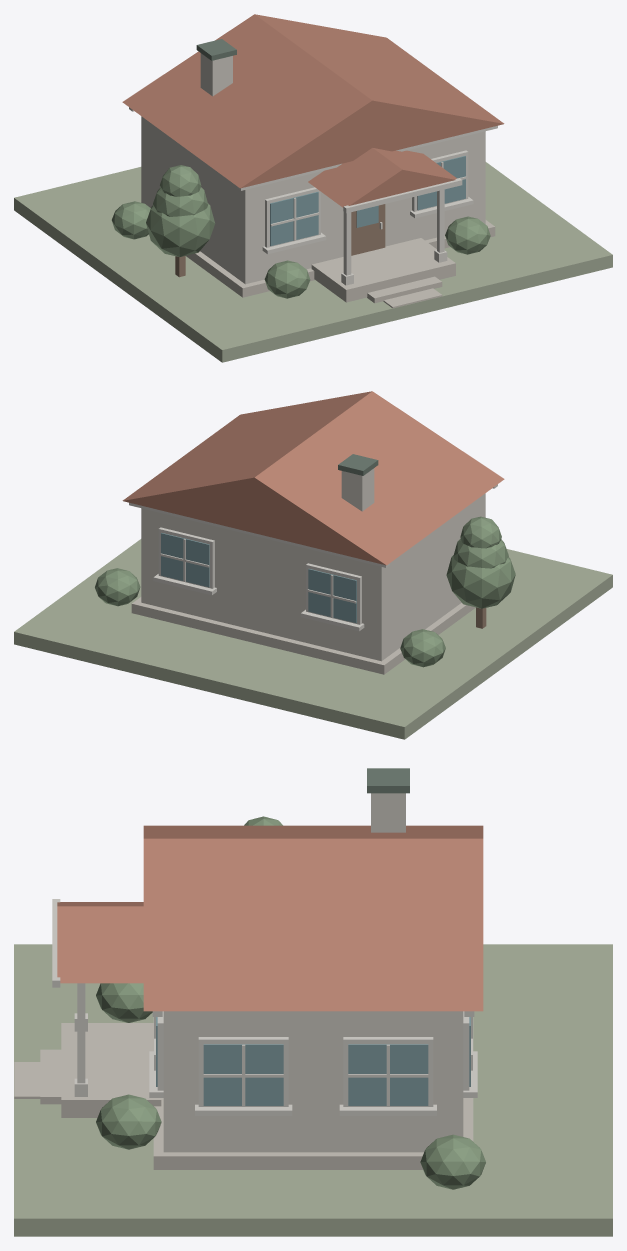
The model's file is Simple House.glb.
3 views of the same model, one above another, from view 1: azimuth 30°, elevation 25°; view 2: azimuth 150°, elevation 25°; view 3: azimuth 270°, elevation 25° (orthographic). The views are drawn at different scales.
Parts seen in each view (by area): view 1: Main terracotta roof, Garden base, Cream walls, Porch roof, Porch platform, Tree foliage 0, Front window -2.45 glass, Foundation, Garden shrub 0, Garden shrub 1, Front door, Garden shrub 2 (+13 smaller); view 2: Garden base, Main terracotta roof, Cream walls, Foundation, Tree foliage 0, Back window 2.45 glass, Back window -2.45 glass, Garden shrub 3, Garden shrub 2, Chimney, Tree foliage 1, Tree foliage 2 (+4 smaller); view 3: Garden base, Main terracotta roof, Cream walls, Porch roof, Porch platform, Foundation, East window -1.5 glass, East window 1.4 glass, Garden shrub 3, Garden shrub 1, Garden shrub 0, East window -1.5 surround (+8 smaller).
Boxes of the visible parts, <box> form: Main terracotta roof: <box>122,14,504,188</box>; Garden base: <box>14,162,612,362</box>; Cream walls: <box>141,116,485,284</box>; Porch roof: <box>308,148,456,207</box>; Porch platform: <box>311,238,455,302</box>; Tree foliage 0: <box>146,203,215,256</box>; Front window -2.45 glass: <box>270,192,318,246</box>; Foundation: <box>186,220,495,297</box>; Garden shrub 0: <box>264,260,310,298</box>; Garden shrub 1: <box>445,216,490,254</box>; Front door: <box>351,204,385,255</box>; Garden shrub 2: <box>111,201,150,239</box>; Garden base: <box>14,539,612,739</box>; Main terracotta roof: <box>122,391,504,565</box>; Cream walls: <box>141,493,485,661</box>; Foundation: <box>131,597,475,674</box>; Tree foliage 0: <box>446,555,515,608</box>; Back window 2.45 glass: <box>161,533,209,587</box>; Back window -2.45 glass: <box>308,569,356,623</box>; Garden shrub 3: <box>95,568,140,606</box>; Garden shrub 2: <box>400,629,445,667</box>; Chimney: <box>341,468,374,511</box>; Tree foliage 1: <box>453,538,508,568</box>; Tree foliage 2: <box>460,516,501,548</box>; Garden base: <box>14,944,612,1236</box>; Main terracotta roof: <box>143,825,483,1011</box>; Cream walls: <box>163,1011,463,1152</box>; Porch roof: <box>57,902,143,983</box>; Porch platform: <box>61,1023,161,1117</box>; Foundation: <box>153,1017,473,1169</box>; East window -1.5 glass: <box>348,1044,428,1105</box>; East window 1.4 glass: <box>203,1044,283,1105</box>; Garden shrub 3: <box>420,1134,485,1189</box>; Garden shrub 1: <box>96,1094,161,1149</box>; Garden shrub 0: <box>96,983,152,1022</box>; East window -1.5 surround: <box>343,1037,433,1106</box>.
Size of the model in its own units: 13 by 6.03 by 12.
